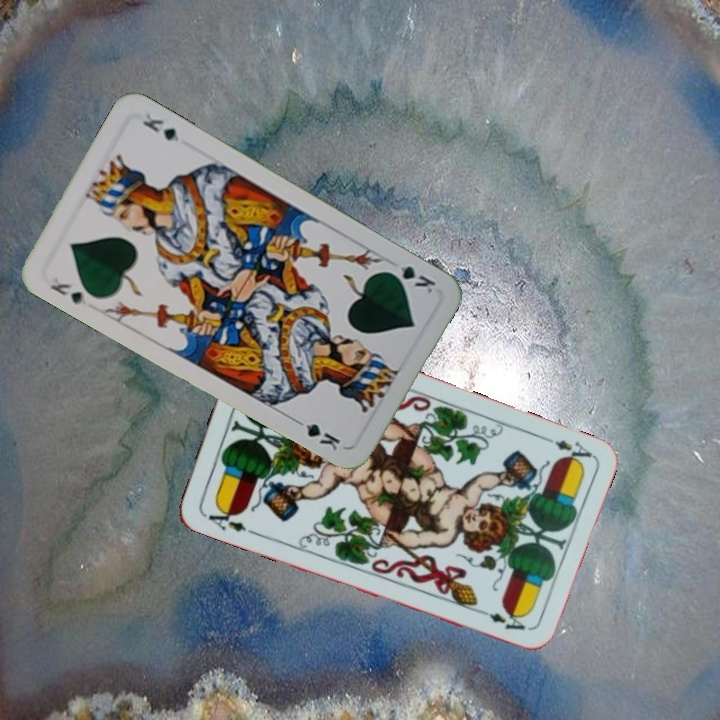EA: (537, 432, 595, 468), (199, 502, 249, 535)
GK: (382, 256, 439, 297), (43, 271, 89, 308)
